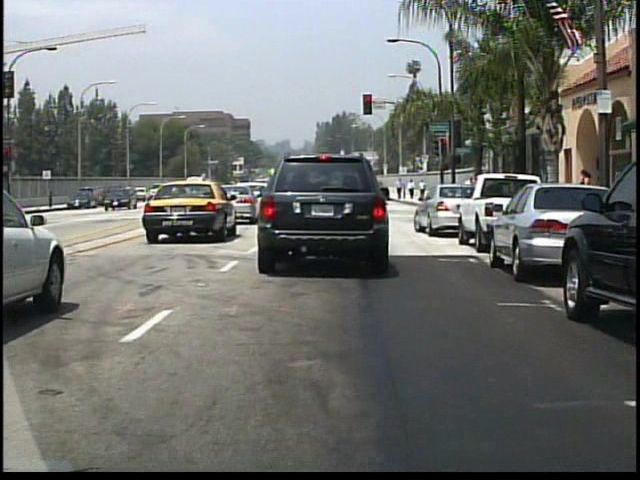person: (575, 167, 595, 222), (461, 174, 480, 219), (419, 179, 428, 203), (408, 179, 417, 202), (397, 177, 405, 199)
